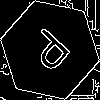P: (25, 25, 80, 81)
